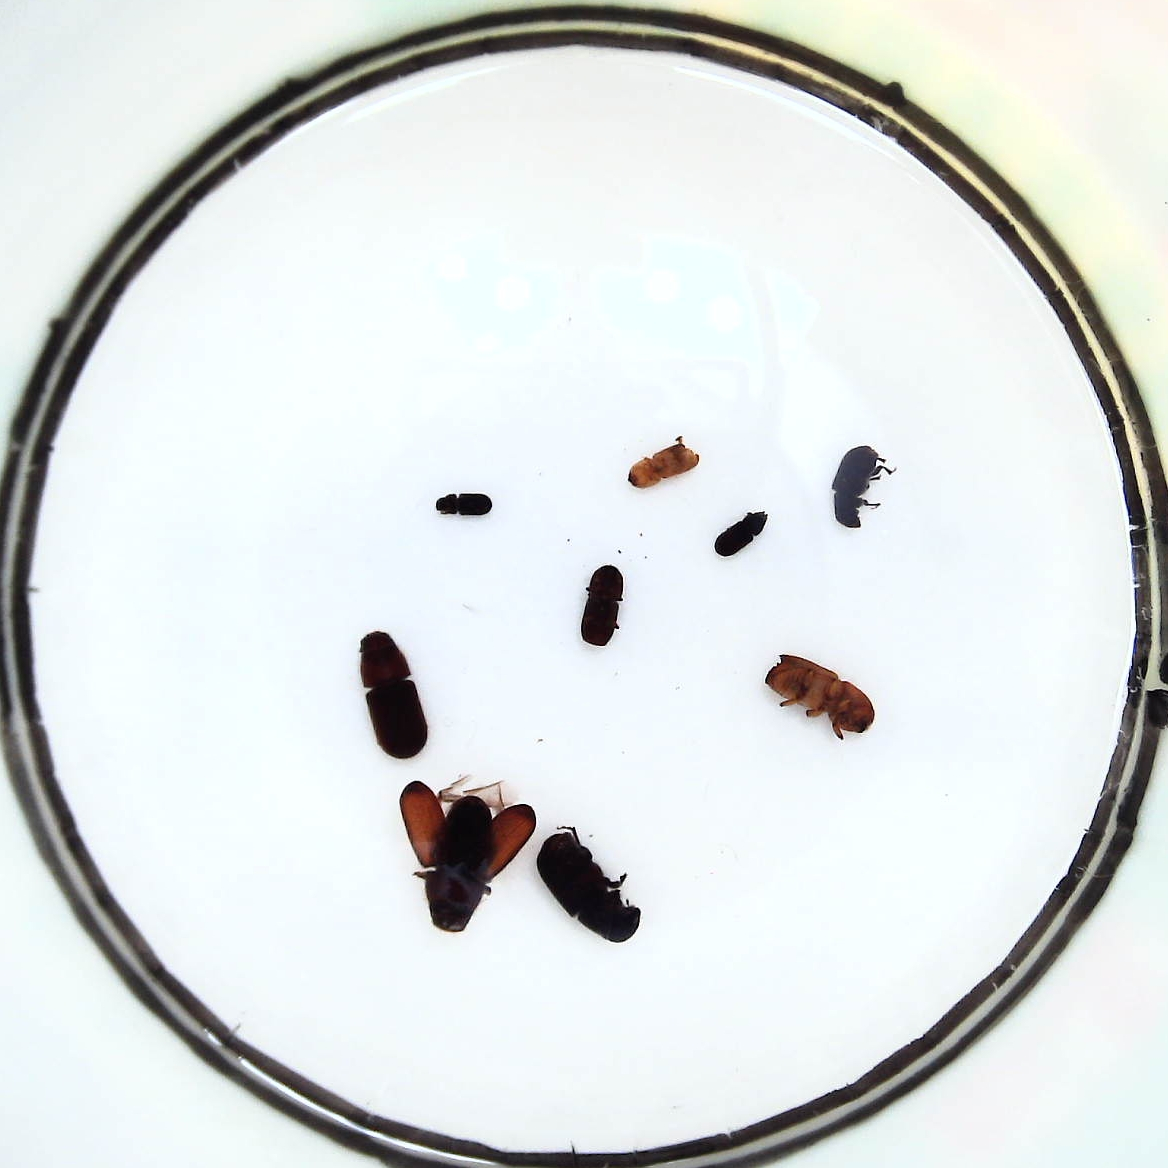Leconte: (399, 781, 536, 933), (537, 830, 641, 943), (359, 630, 429, 760)
acuminatus: (714, 511, 768, 556), (435, 492, 492, 517)
armandi: (833, 446, 879, 528), (582, 563, 623, 646)
coleoptera: (628, 447, 700, 489)
linnaeus: (766, 654, 875, 734)
